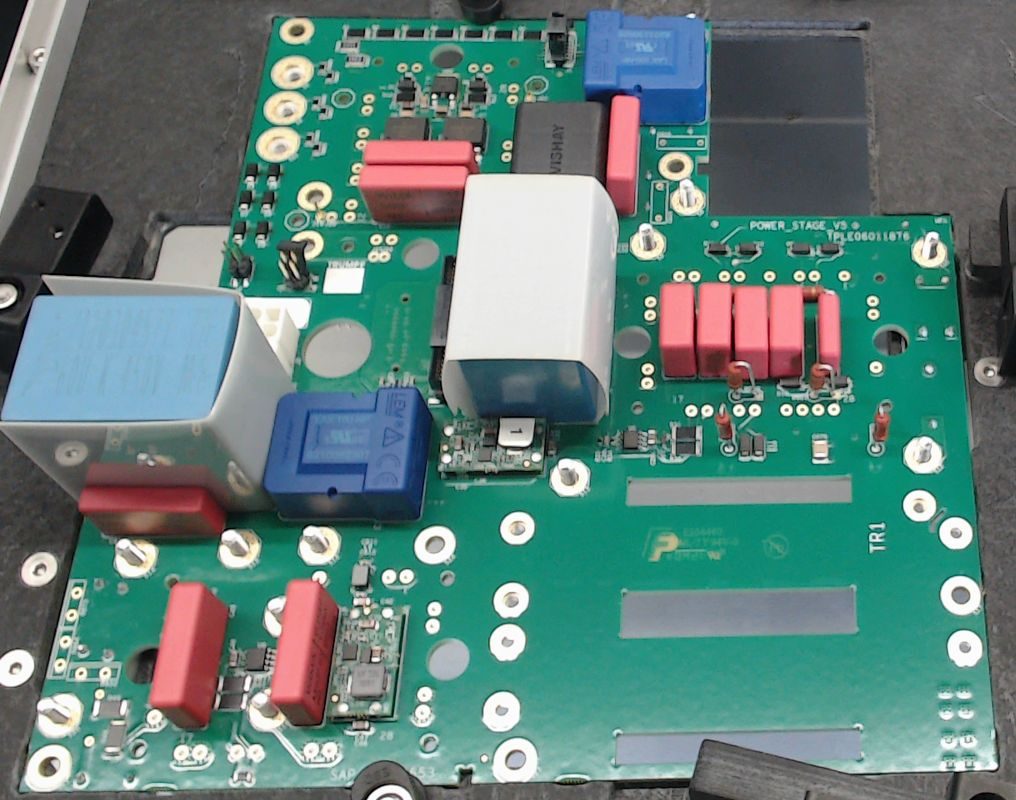comp1: (262, 386, 432, 520), (583, 12, 709, 124)
comp2: (150, 581, 229, 732), (271, 579, 339, 726), (78, 484, 230, 546), (357, 165, 467, 228), (605, 95, 639, 212), (658, 281, 696, 382), (361, 137, 477, 167), (771, 282, 808, 376), (698, 282, 733, 380), (734, 284, 767, 380), (816, 290, 841, 377)
comp3: (513, 102, 602, 182)
comp4: (1, 273, 299, 507), (441, 173, 618, 423)
